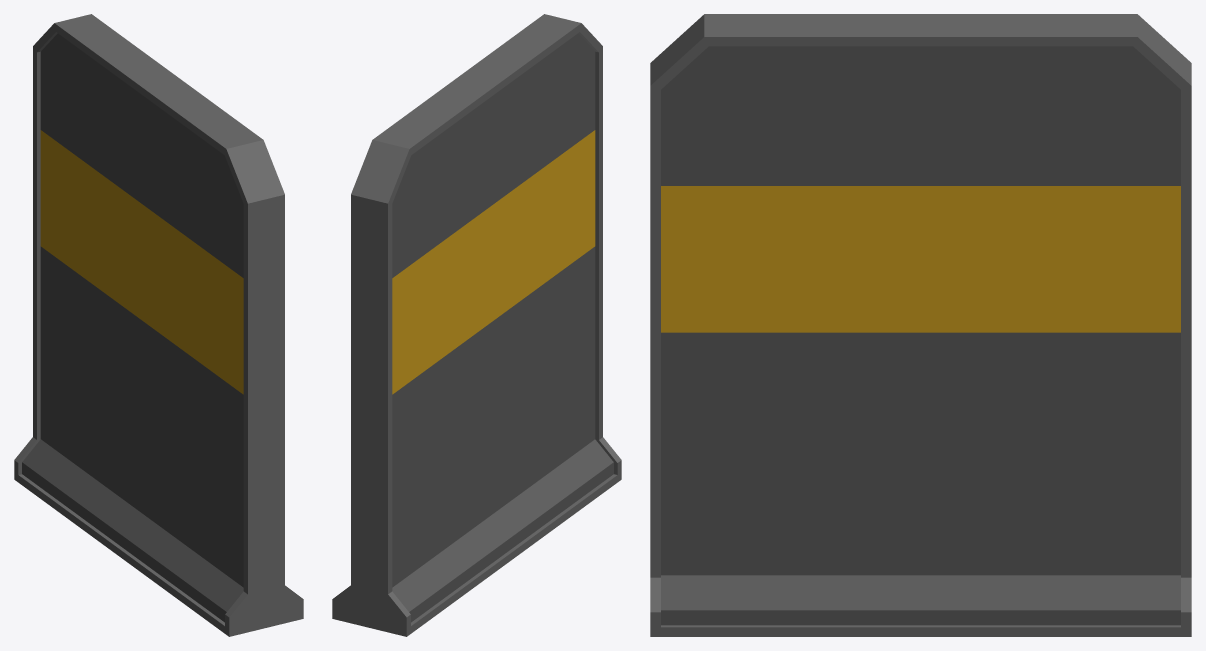
Rendered from Barricade.fbx.
3 views of the same model, side by side, from view 1: azimuth 30°, elevation 25°; view 2: azimuth 150°, elevation 25°; view 3: azimuth 270°, elevation 25° (orthographic). The views are drawn at different scales.
Parts seen in each view (by area): view 1: Wall, Frame, Stripe; view 2: Wall, Frame, Stripe; view 3: Wall, Stripe, Frame.
Part boxes in pixels (box(x1,y1,x2,y2)): Wall: box(22, 33, 243, 622); Frame: box(14, 14, 303, 636); Stripe: box(40, 130, 243, 394); Wall: box(392, 33, 613, 622); Frame: box(332, 14, 621, 636); Stripe: box(392, 130, 595, 394); Wall: box(661, 46, 1180, 625); Stripe: box(661, 186, 1180, 332); Frame: box(650, 14, 1191, 636).
Bounding box in the file's own units: 0.1 × 0.6 × 0.5.
